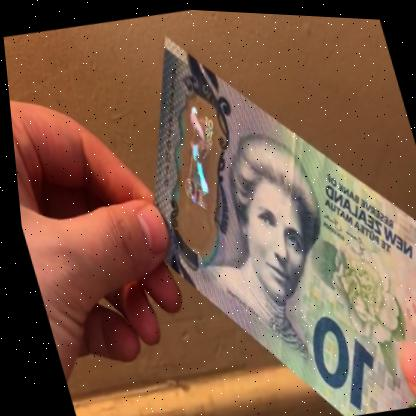10B: (154, 92, 238, 211)
